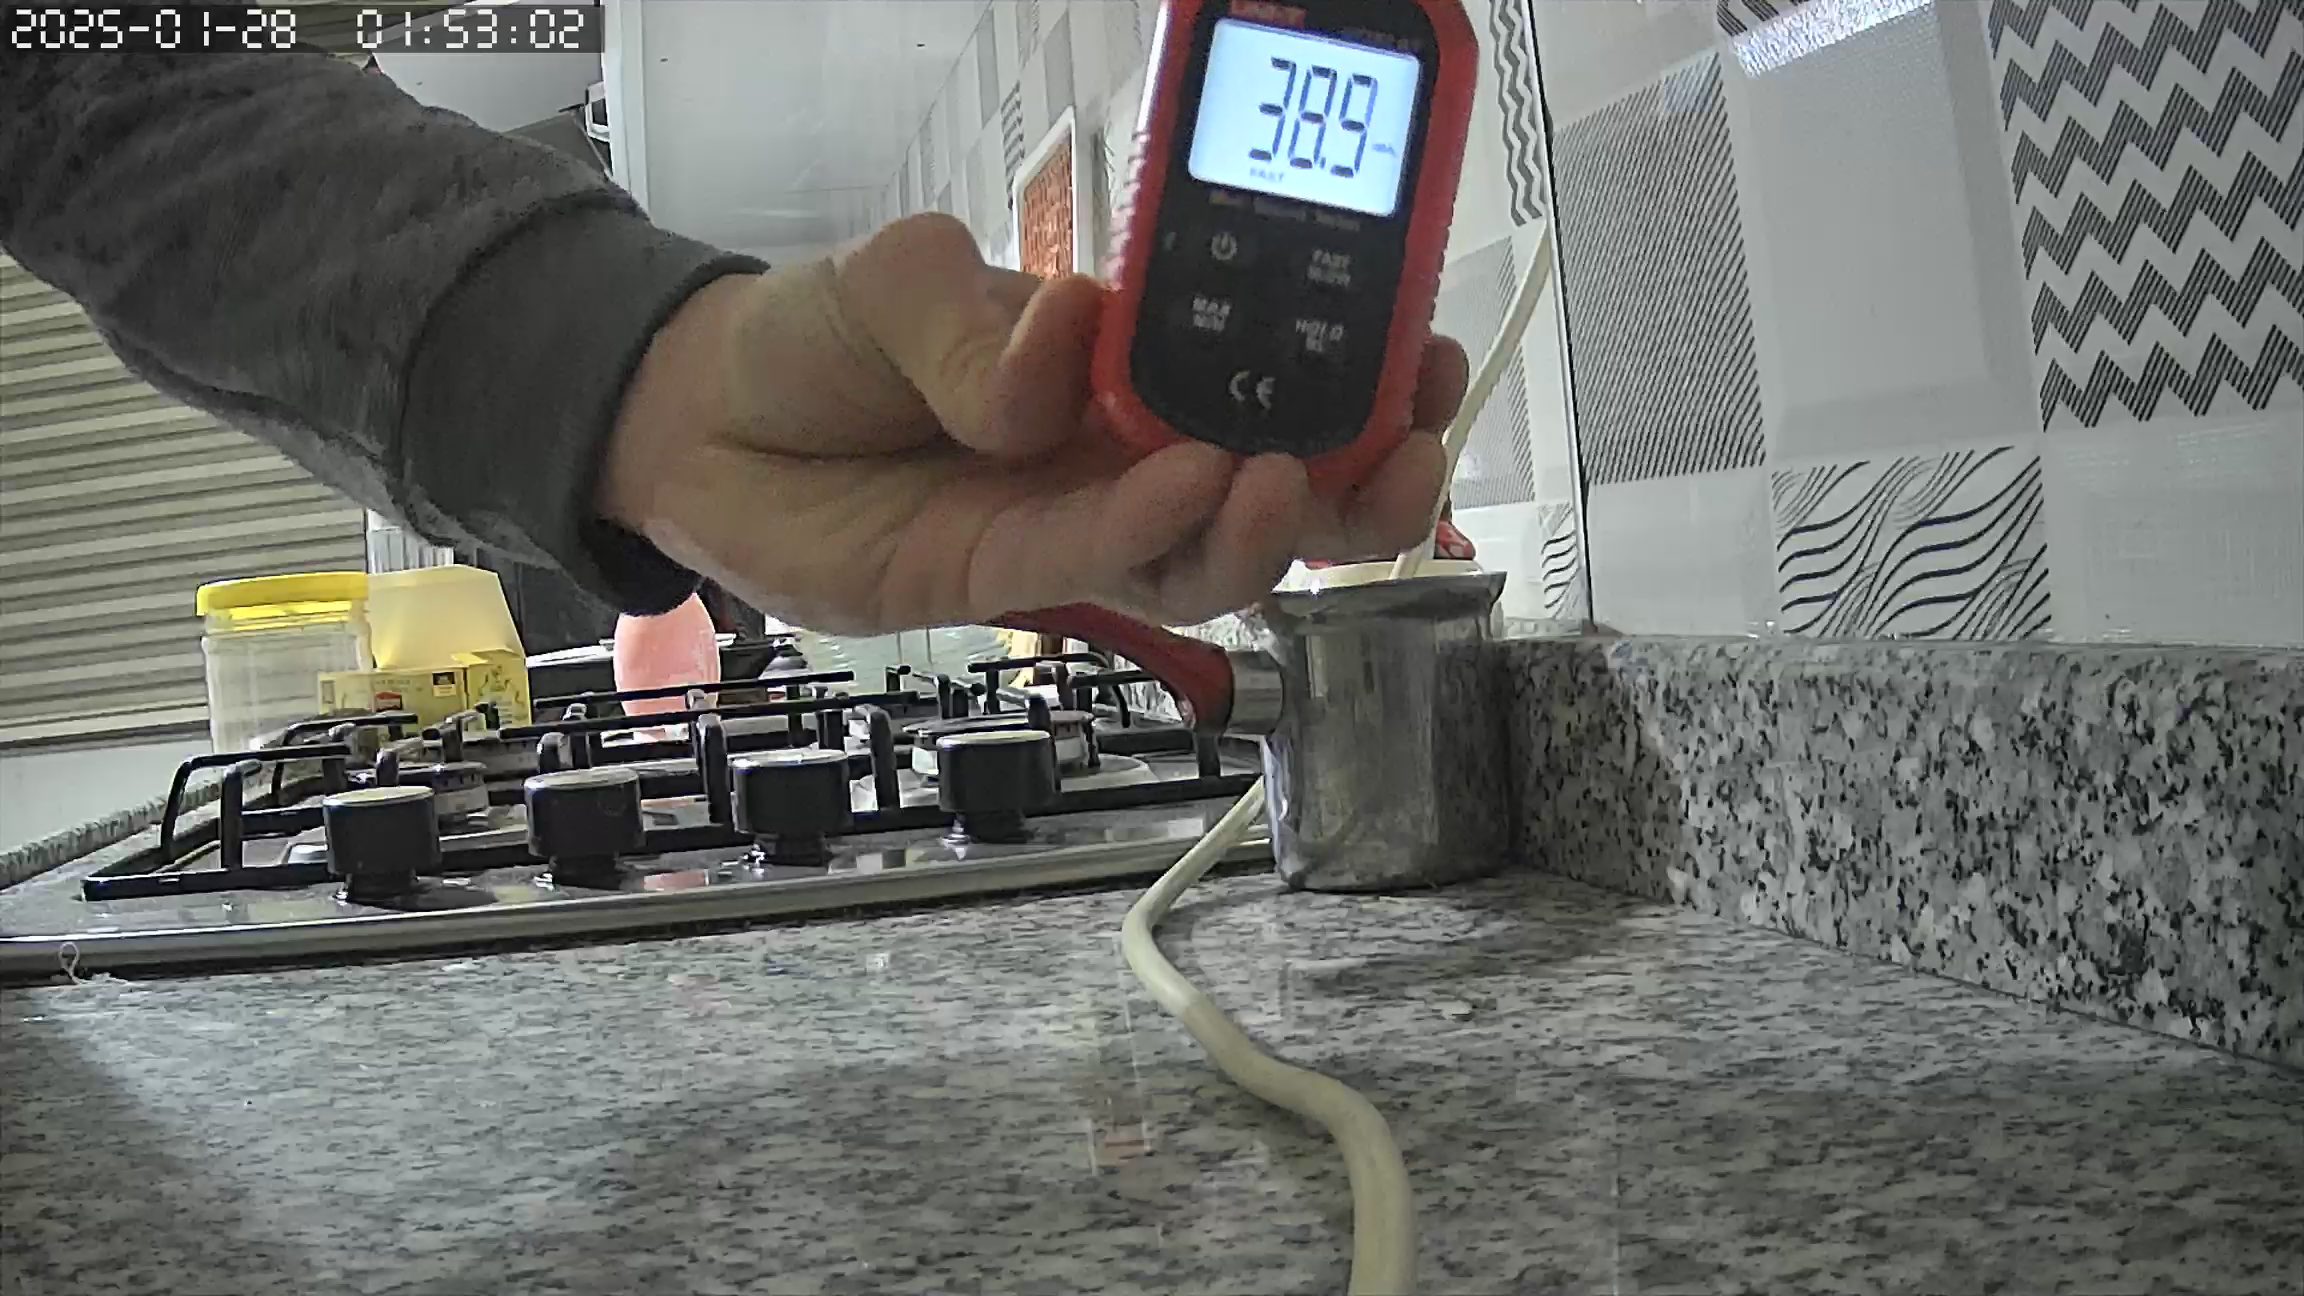screen: (1187, 17, 1419, 218)
